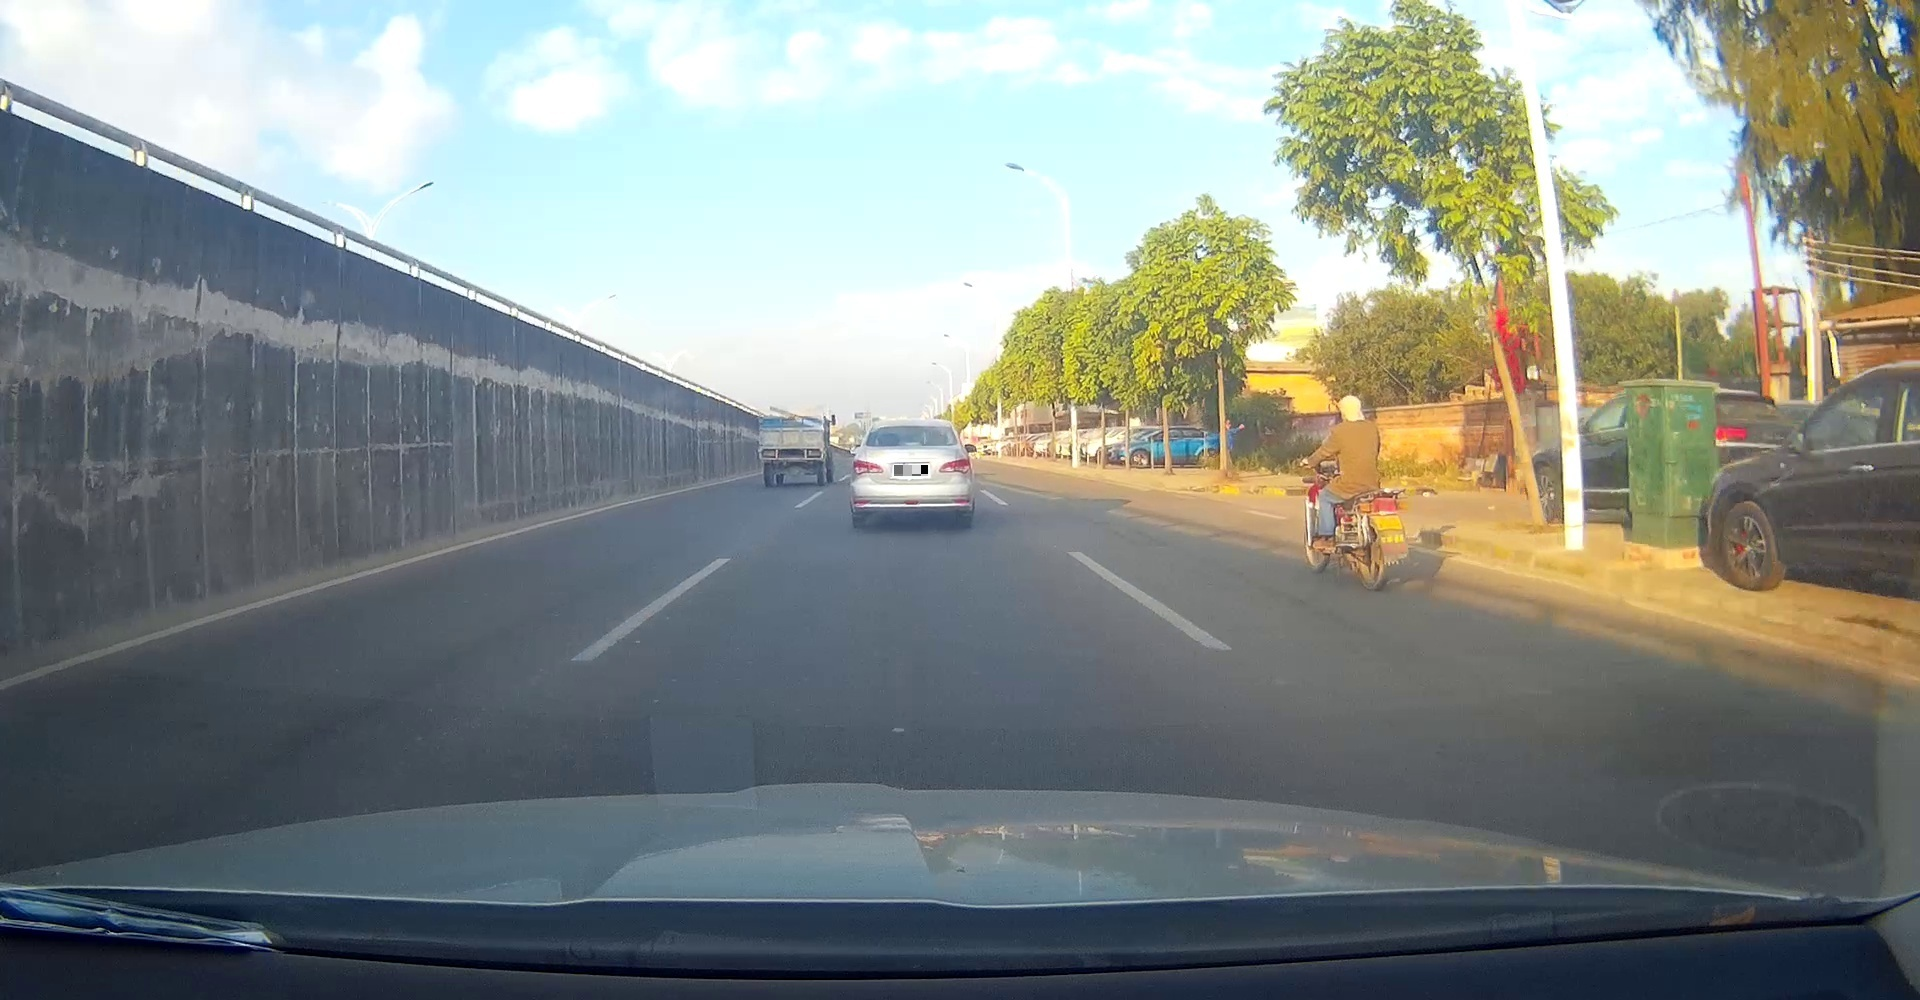L_light: (853, 458, 883, 475), (762, 449, 775, 457)
R_light: (938, 458, 970, 475), (808, 449, 822, 457)
T_light: (904, 440, 922, 447), (787, 429, 797, 434)
day-no: (850, 419, 971, 527), (759, 426, 825, 487)
plate_1: (894, 464, 928, 476)
